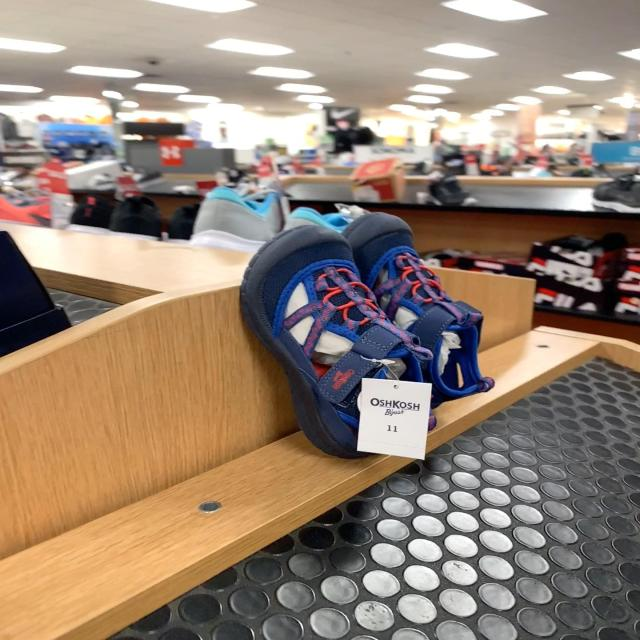shoe: (240, 227, 433, 434), (342, 214, 494, 406)
